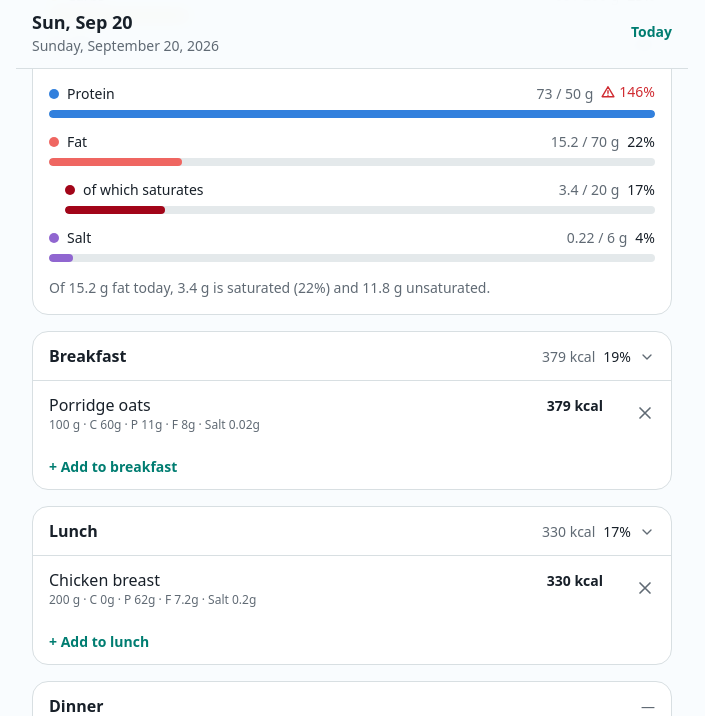
Test: TodayPage — per-meal breakdown › opens each meal independently
The width and height of the screenshot is (705, 716).
(page scrolled)
Click the button "Breakfast 379 kcal 19%" at (88, 356), box [33,332,671,381]
(page scrolled)
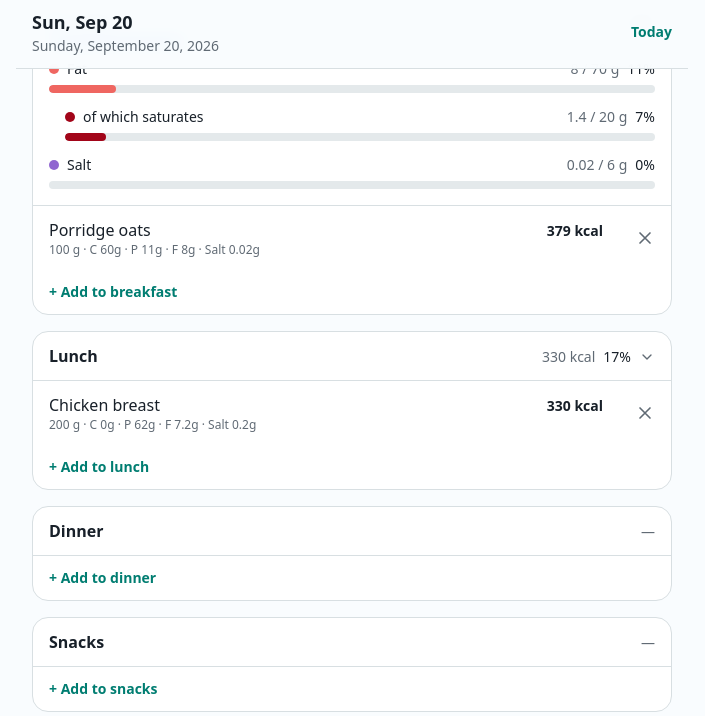
Click the button "Lunch 330 kcal 17%" at (73, 356), box [33,332,671,381]
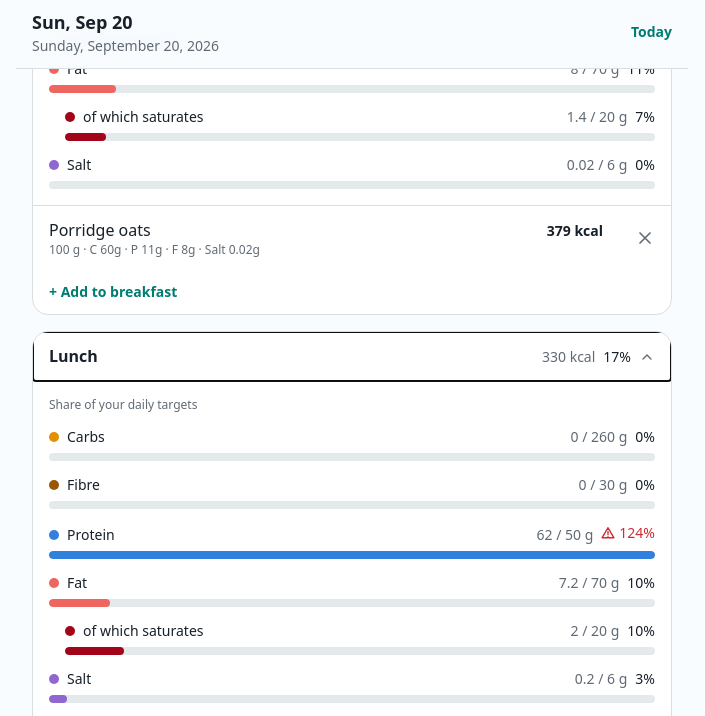
Check: the text "Share of your daily targets" is shown 2 times
